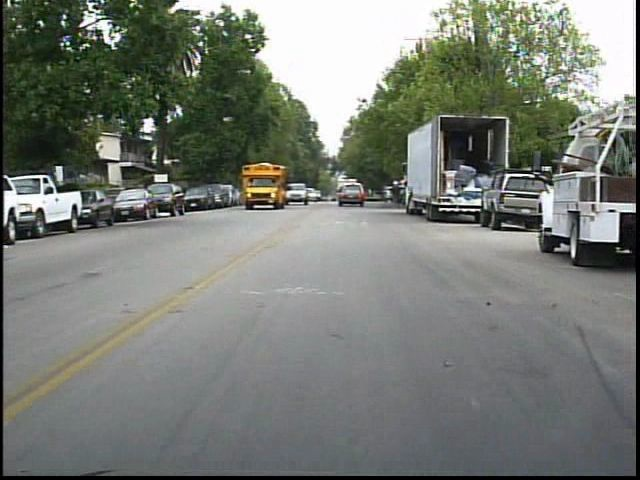person: (390, 177, 409, 213)
